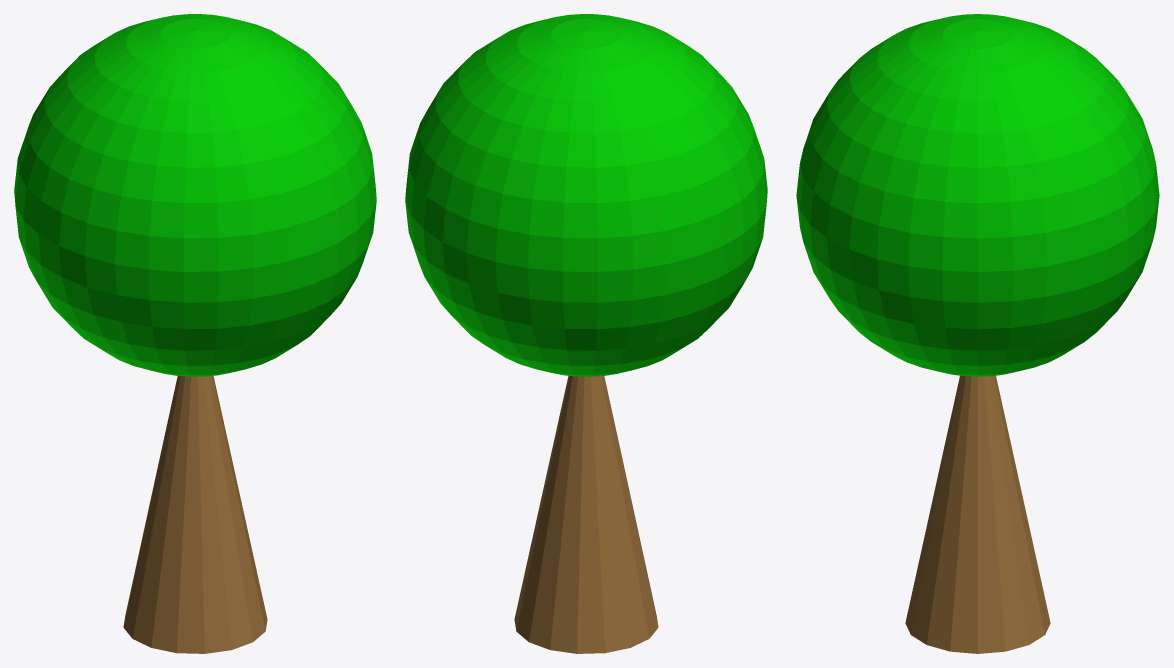
File: tree.glb
3 views of the same model, side by side, from view 1: azimuth 30°, elevation 25°; view 2: azimuth 150°, elevation 25°; view 3: azimuth 270°, elevation 25° (orthographic).
Visible parts, largest first — view 1: Leaves, Trunk; view 2: Leaves, Trunk; view 3: Leaves, Trunk.
Part boxes in pixels (x1,y1,x2,y2): Leaves: (14, 14, 376, 376); Trunk: (123, 376, 267, 653); Leaves: (405, 14, 767, 376); Trunk: (514, 376, 658, 653); Leaves: (796, 14, 1159, 376); Trunk: (905, 375, 1050, 653).
Size of the model in its own units: 1 by 1.8 by 1.
